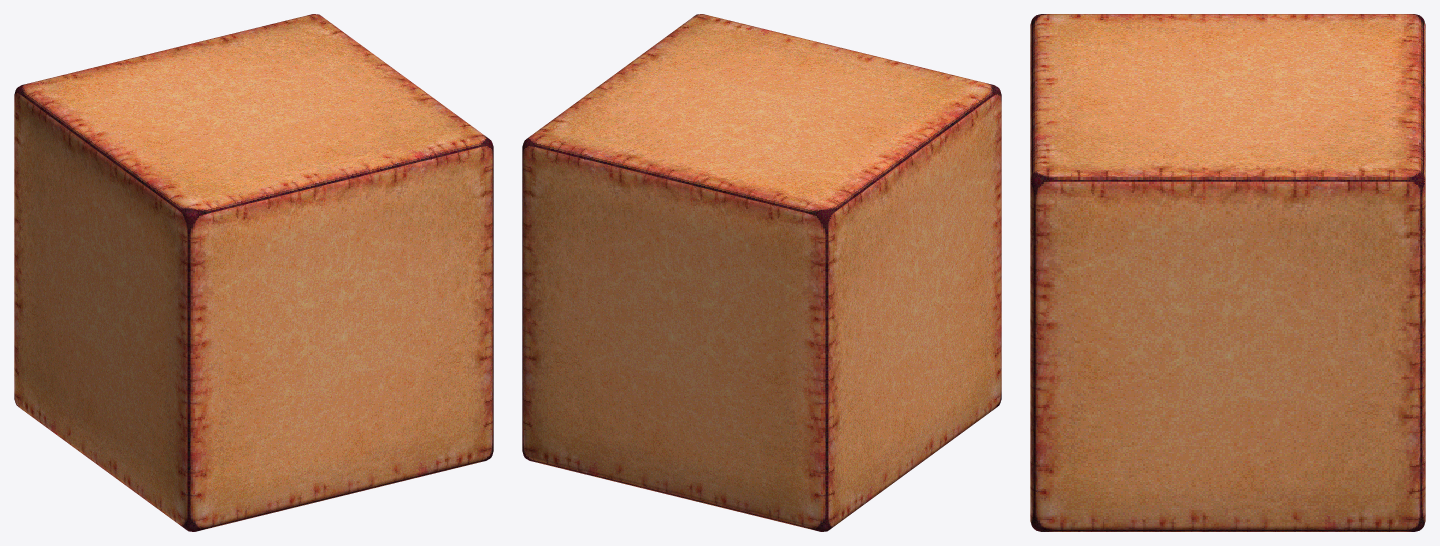
The model's file is flesh_cube.glb.
3 renders of one model, left to right at view 1: azimuth 30°, elevation 25°; view 2: azimuth 150°, elevation 25°; view 3: azimuth 270°, elevation 25°, orthographic. The views are drawn at different scales.
Visible parts, largest first — view 1: flesh_cube-col; view 2: flesh_cube-col; view 3: flesh_cube-col.
Boxes of the visible parts, bbox=[...] form: flesh_cube-col: bbox=[14, 14, 493, 531]; flesh_cube-col: bbox=[522, 14, 1001, 531]; flesh_cube-col: bbox=[1030, 14, 1425, 531].
Bounding box in the file's own units: 2 × 2 × 2.
Materials: 1 (1 with a texture image).
